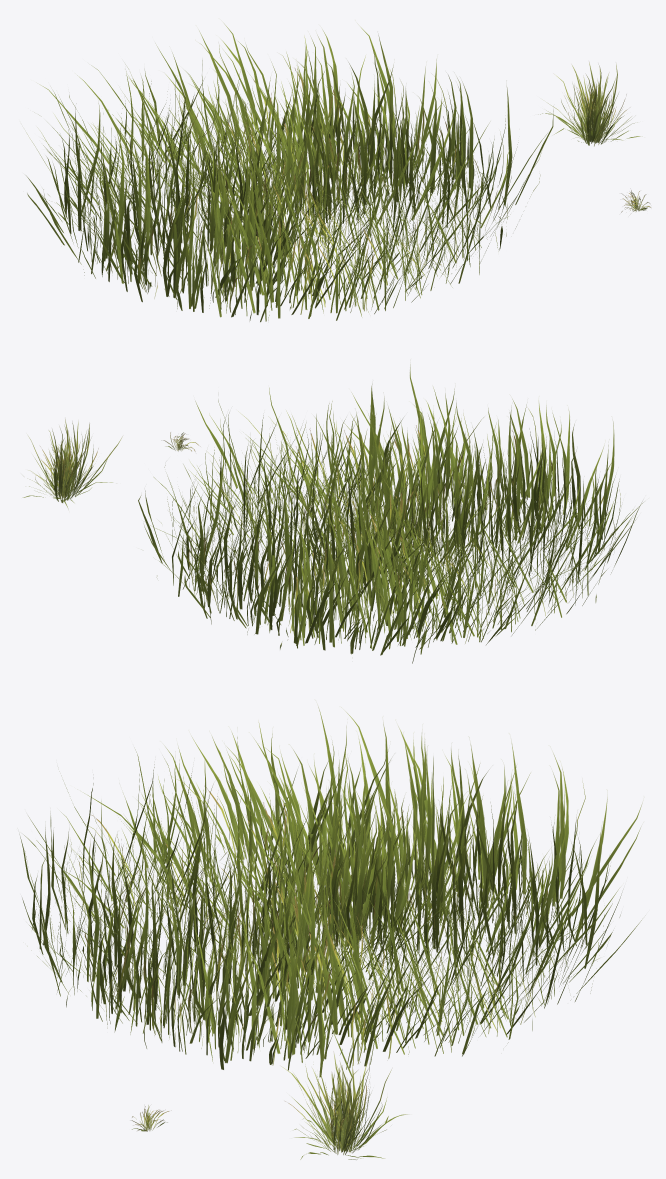
The model's file is grass.glb.
The picture shows the model from 3 angles, top to bottom: view 1: azimuth 30°, elevation 25°; view 2: azimuth 150°, elevation 25°; view 3: azimuth 270°, elevation 25°; orthographic projection. The views are drawn at different scales.
Visible parts, largest first — view 1: Object_8, Object_21, Object_10, Object_12; view 2: Object_8, Object_21, Object_12, Object_10; view 3: Object_8, Object_21, Object_12, Object_10.
Part boxes in pixels (left/top/right/bottom): Object_8: left=26, top=24, right=647, bottom=322; Object_21: left=40, top=36, right=547, bottom=316; Object_10: left=93, top=68, right=650, bottom=314; Object_12: left=26, top=45, right=630, bottom=320; Object_8: left=23, top=364, right=643, bottom=655; Object_21: left=150, top=387, right=633, bottom=649; Object_12: left=28, top=408, right=632, bottom=663; Object_10: left=36, top=420, right=612, bottom=643; Object_8: left=19, top=706, right=642, bottom=1159; Object_21: left=37, top=722, right=602, bottom=1070; Object_12: left=25, top=779, right=604, bottom=1154; Object_10: left=48, top=785, right=569, bottom=1154.
Size of the model in its own units: 4.79 by 0.9999 by 3.57.
Materials: 4 (4 with a texture image).
